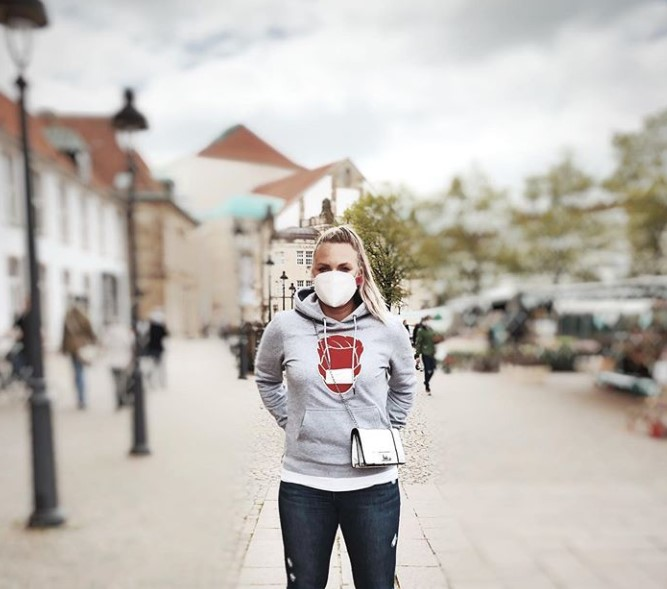face_with_mask: (308, 225, 366, 310)
